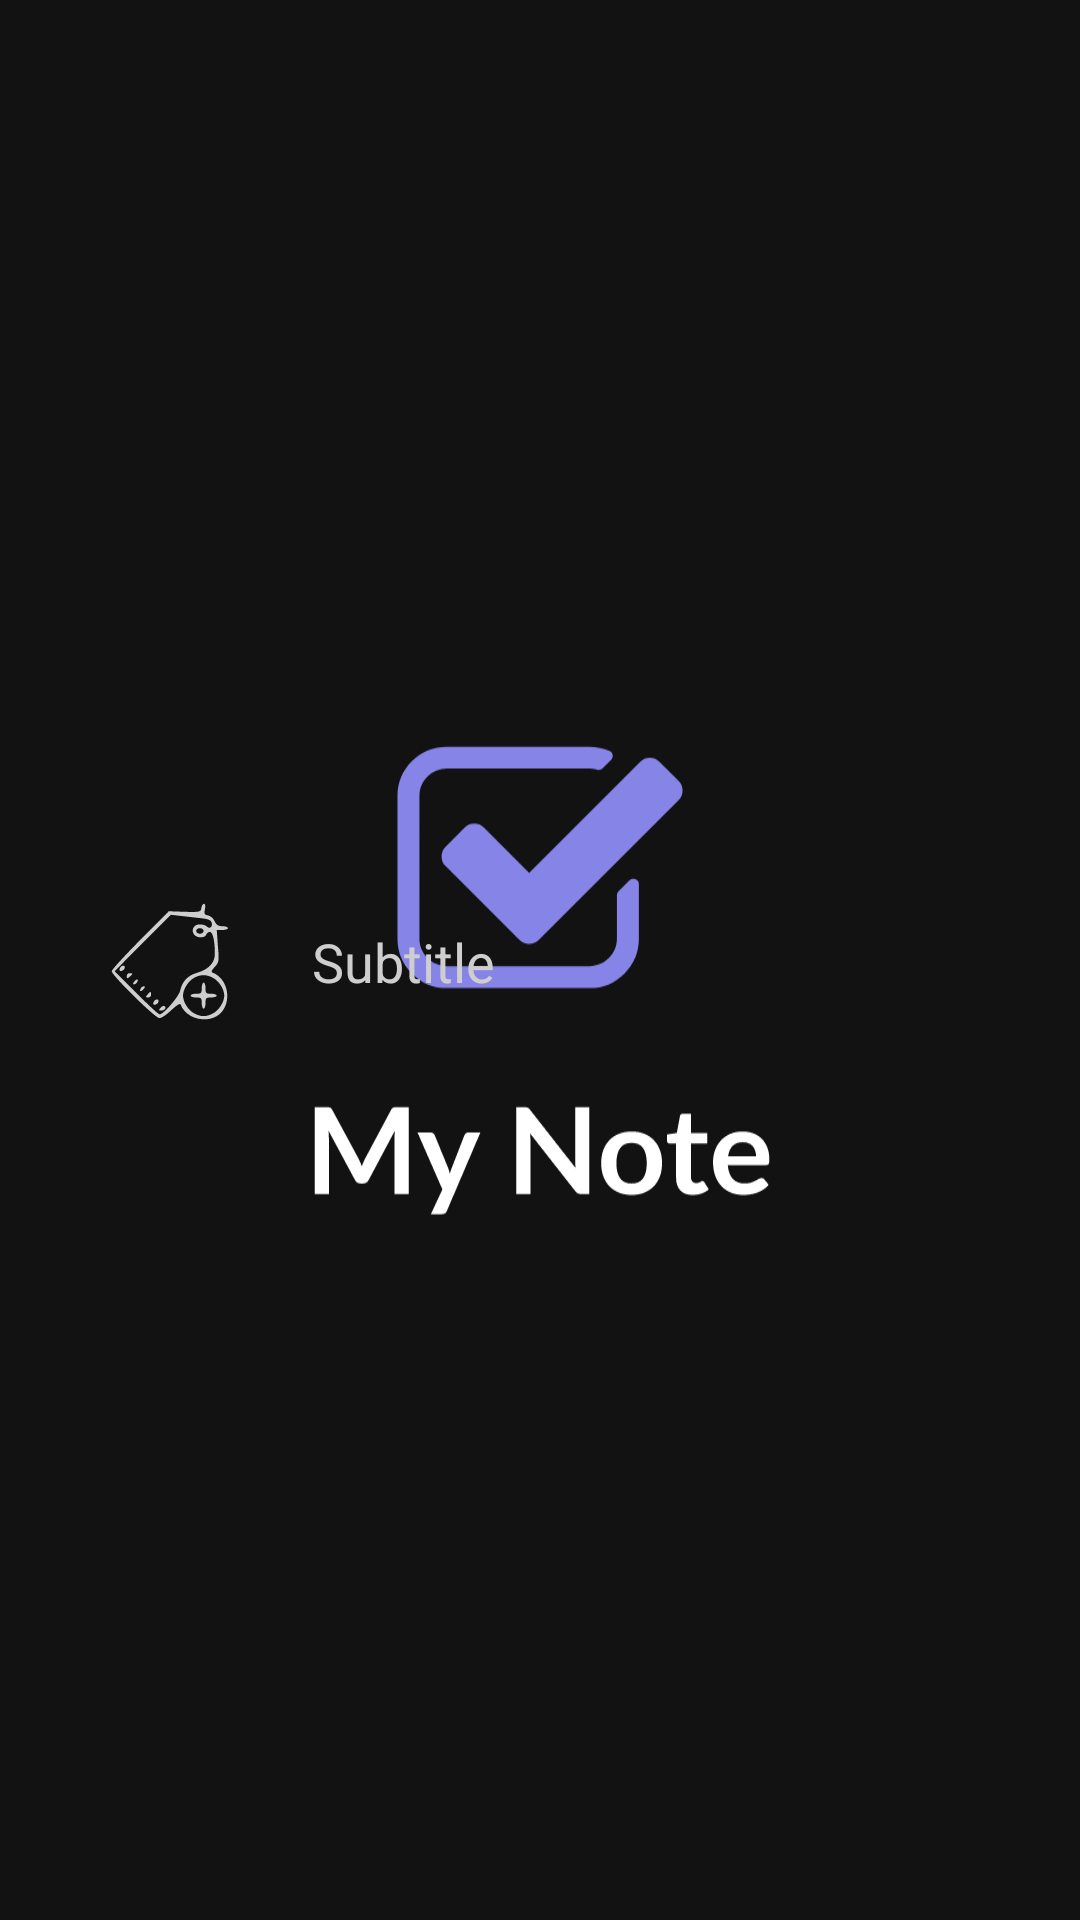

Screen size 1080px×1920px. Icon name, then its center in pixels as (x,y):
add tag: (169,962)
